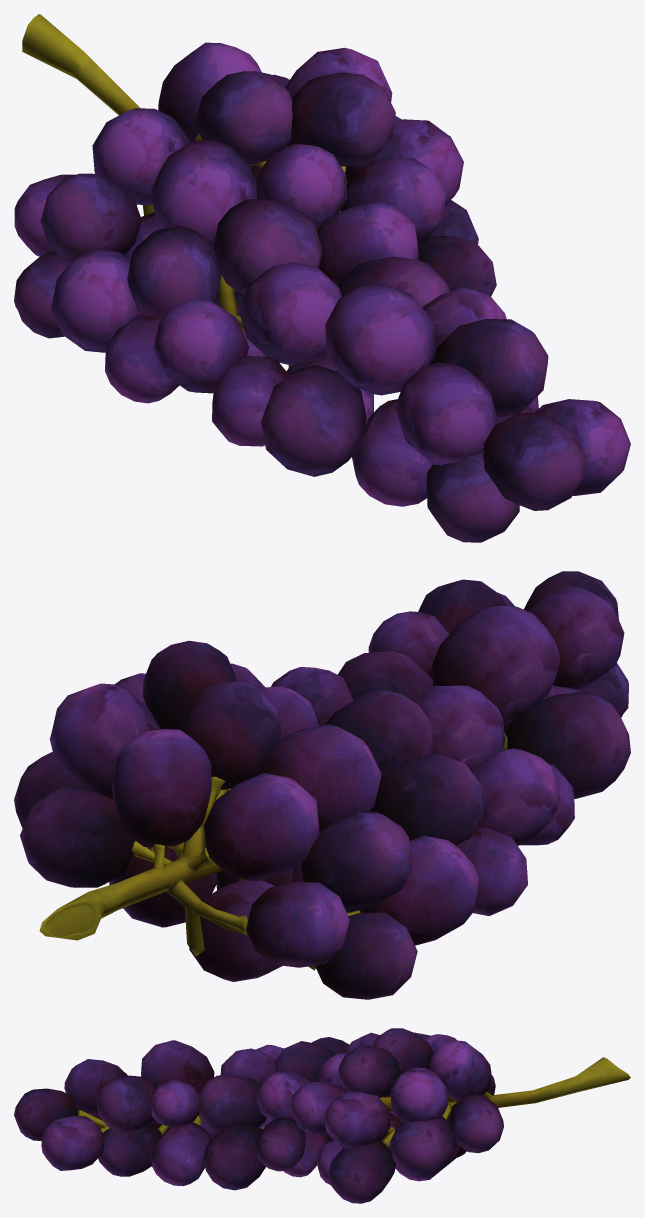
The model's file is SM_GrapesPurple.fbx.
3 views of the same model, one above another, from view 1: azimuth 30°, elevation 25°; view 2: azimuth 150°, elevation 25°; view 3: azimuth 270°, elevation 25° (orthographic). The views are drawn at different scales.
Parts seen in each view (by area): view 1: SM_GrapesPurple; view 2: SM_GrapesPurple; view 3: SM_GrapesPurple.
Boxes of the visible parts, x1,y1,x2,y2 form: SM_GrapesPurple: (14,14,630,542); SM_GrapesPurple: (14,571,630,999); SM_GrapesPurple: (14,1028,630,1203).
Bounding box in the file's own units: 17.59 × 10.31 × 40.62.
